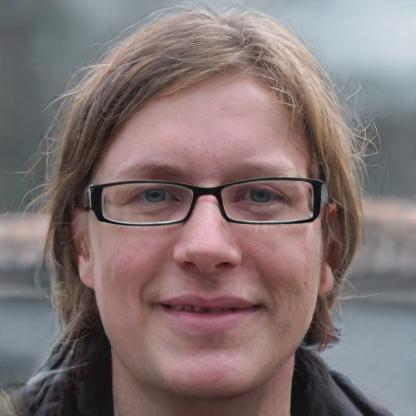glasses: (89, 172, 325, 233)
